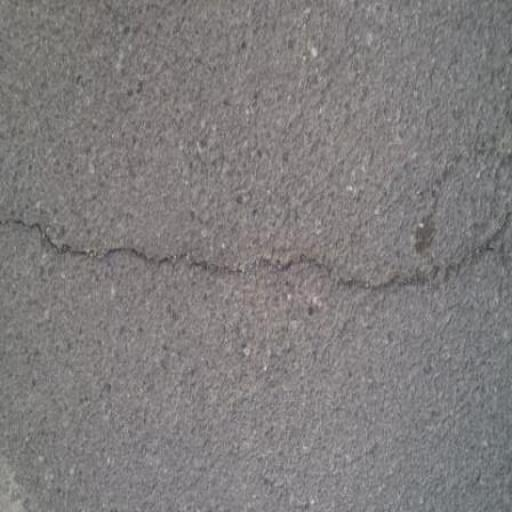spalling: (3, 195, 512, 304)
